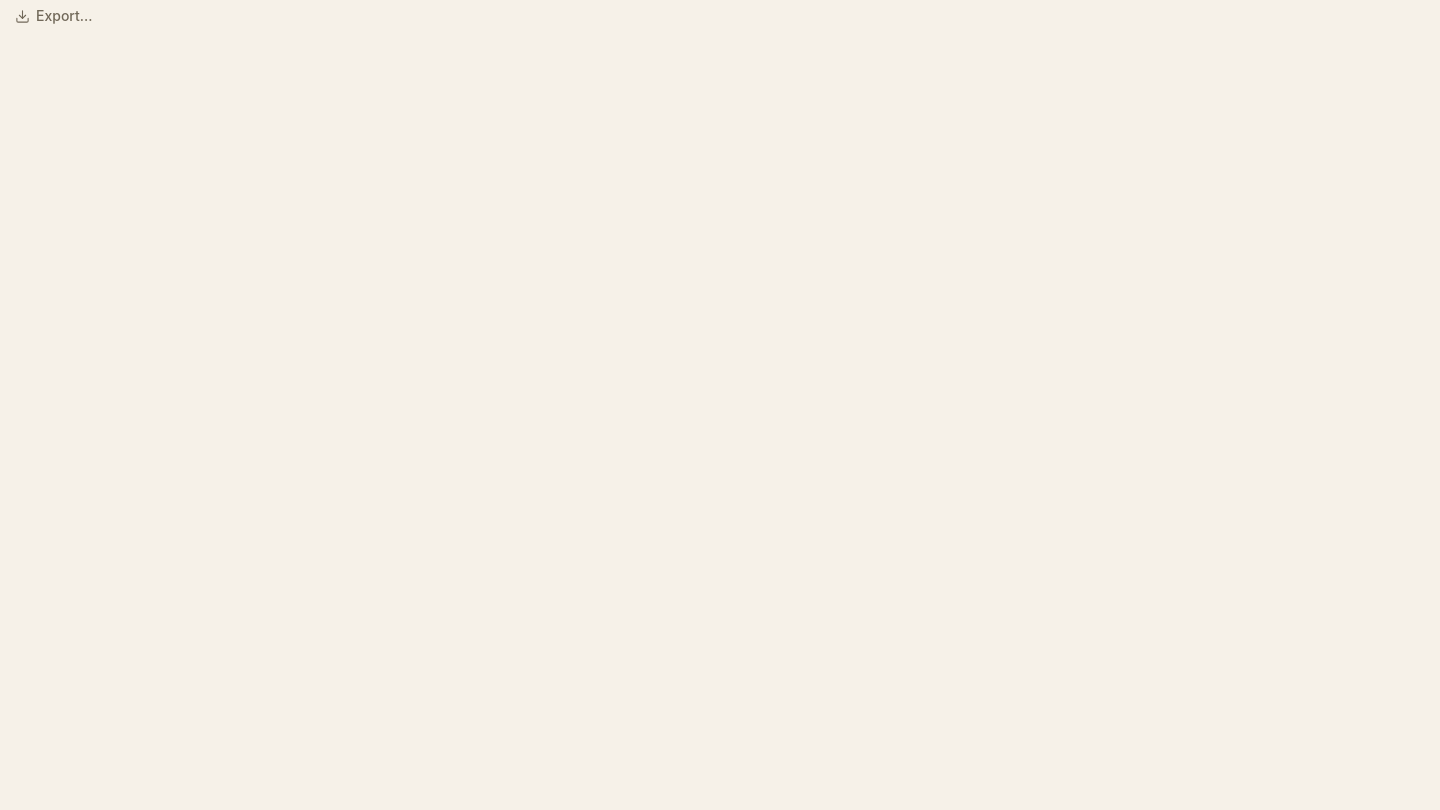
Test case: ExportProjectsButton › exports every project as a full backup by default
The width and height of the screenshot is (1440, 810).
Click the button "Export…" at (54, 16), box top-left (0, 0), bottom-right (108, 33)
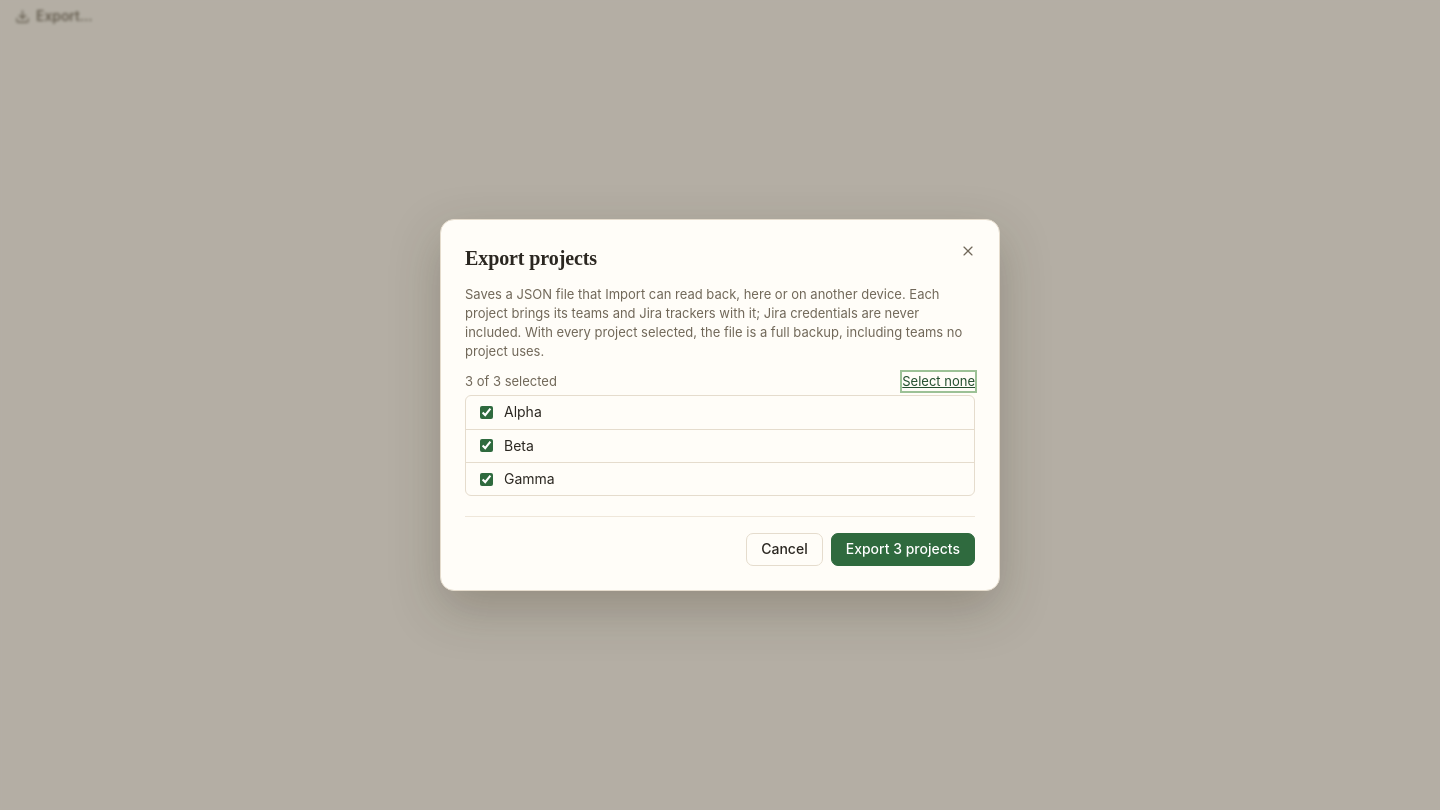
Check: the dialog "Export projects" is shown, box top-left (440, 219), bottom-right (1000, 591)
Check: the text "3 of 3 selected" is shown, box top-left (465, 372), bottom-right (557, 391)
Click the button "Export 3 projects" at (903, 550), box top-left (831, 533), bottom-right (975, 566)
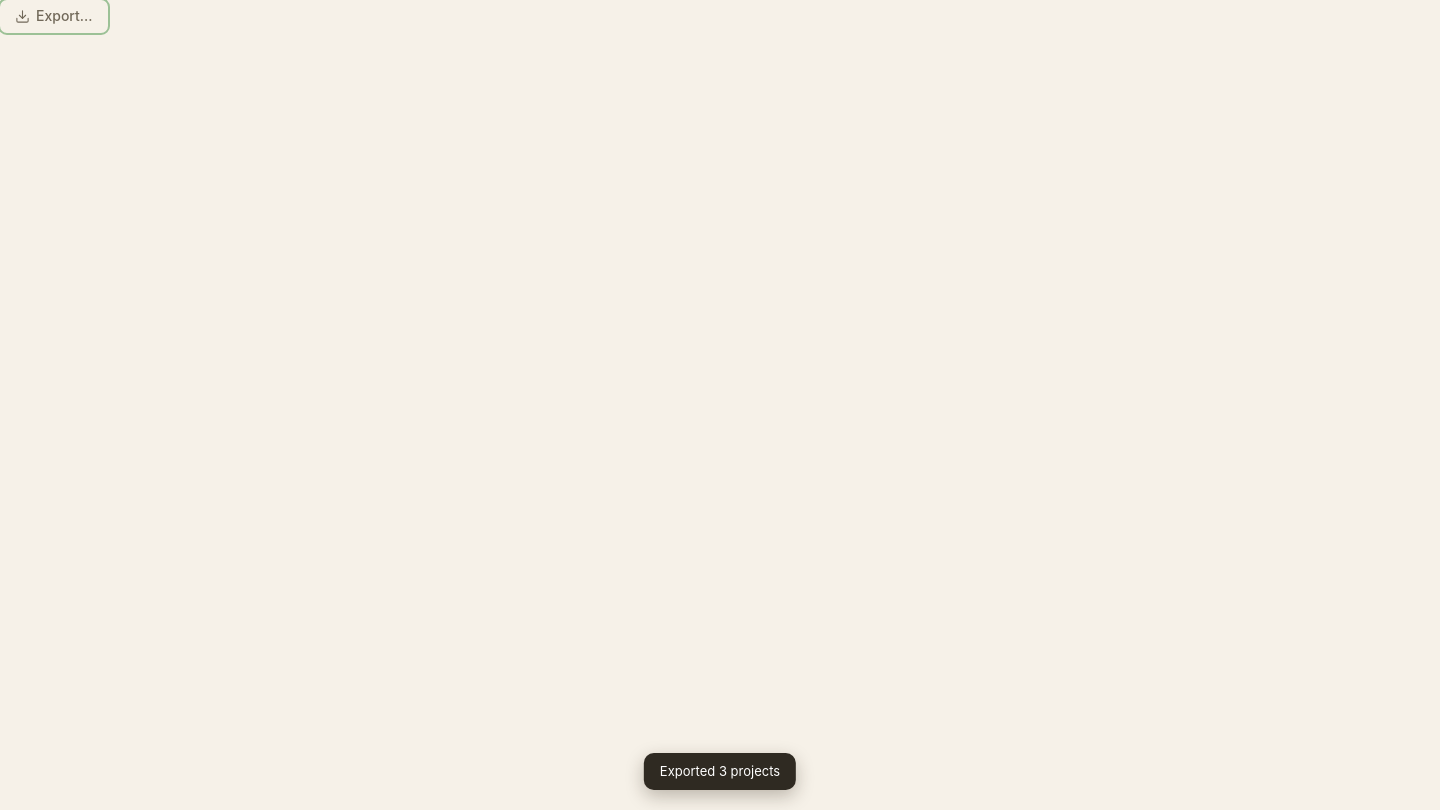
Check: the text "Exported 3 projects" is shown, box top-left (644, 753), bottom-right (796, 790)
Check: the dialog is gone
